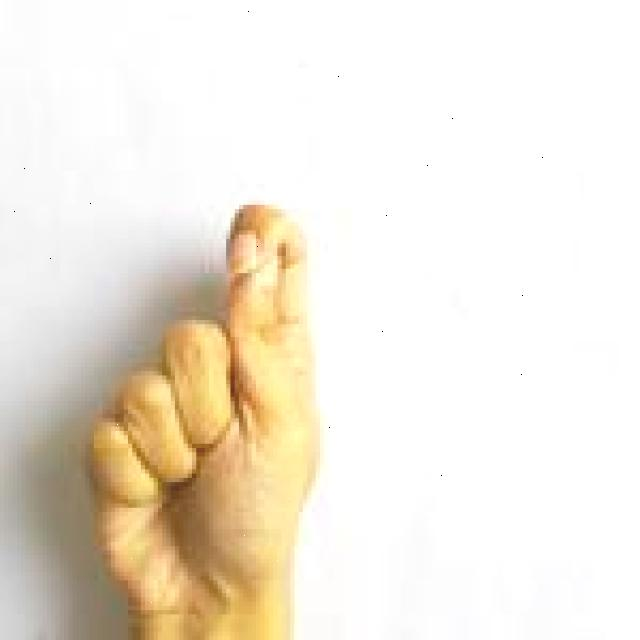T: (72, 195, 337, 640)
